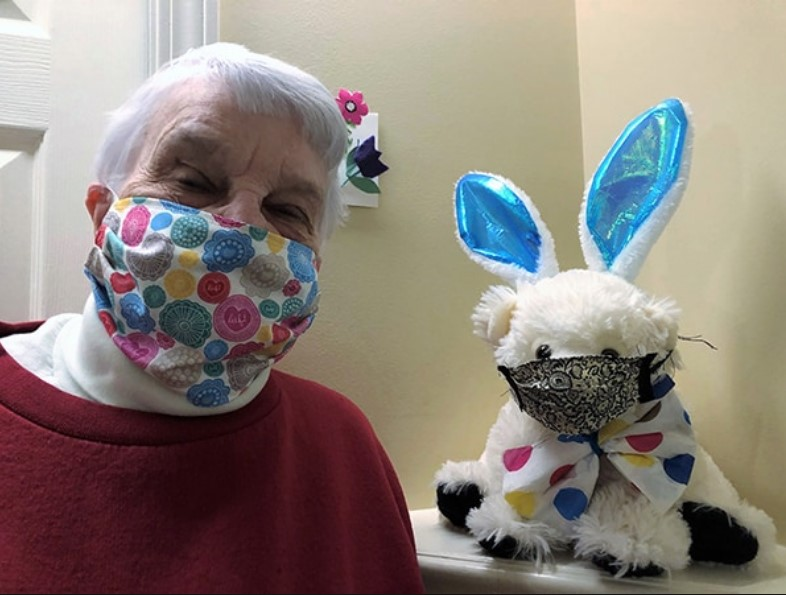face_with_mask: (80, 50, 347, 418)
